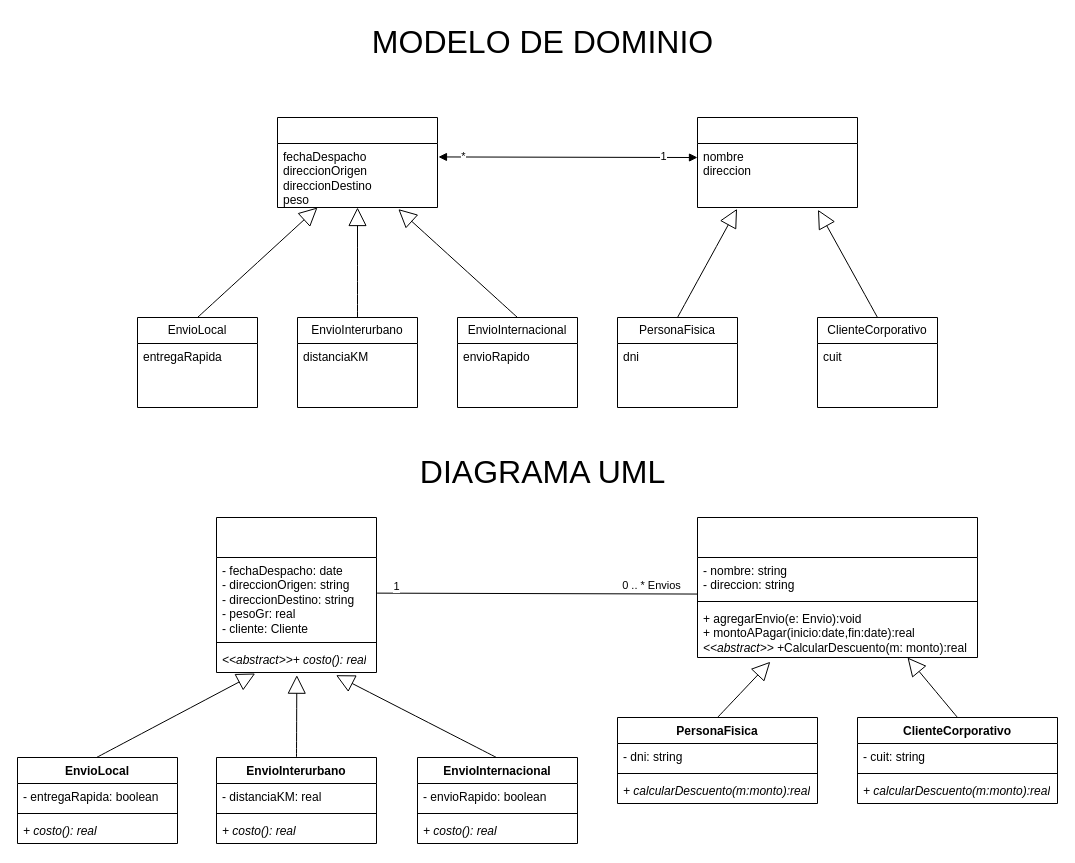
This 1075x863 diagram has some shape labels left out. Each missing label, with the box of its shape:
<<asbtract>> Cliente: (696, 516, 978, 658)
<<asbtract>> Envio: (216, 516, 376, 672)
Cliente: (696, 116, 858, 208)
Envio: (276, 116, 438, 208)
